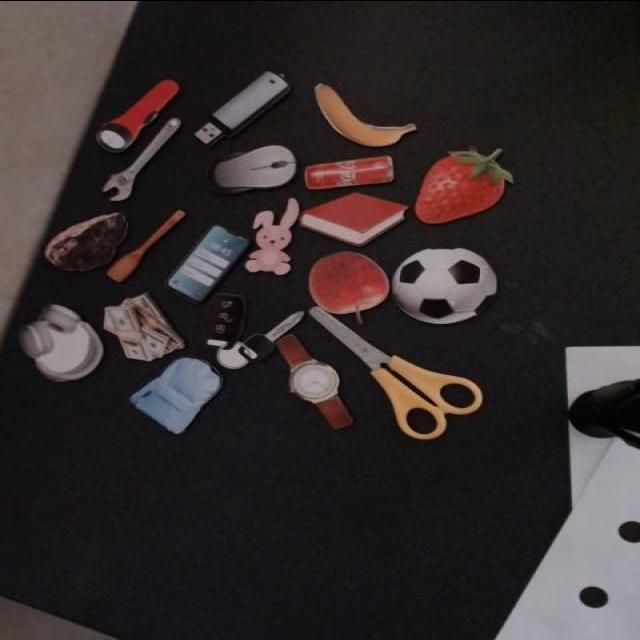Other Objects: (308, 306, 483, 440), (186, 290, 303, 379), (123, 349, 240, 437), (126, 349, 239, 435), (187, 67, 296, 152), (86, 71, 186, 157), (393, 247, 497, 321), (103, 204, 192, 285), (277, 335, 353, 429), (164, 224, 251, 304), (100, 118, 181, 201), (19, 303, 104, 381), (315, 82, 417, 146), (102, 118, 181, 200), (308, 251, 389, 325), (103, 292, 185, 360), (43, 212, 128, 272), (243, 197, 300, 276), (214, 145, 296, 191), (303, 155, 397, 193), (303, 155, 393, 190)
